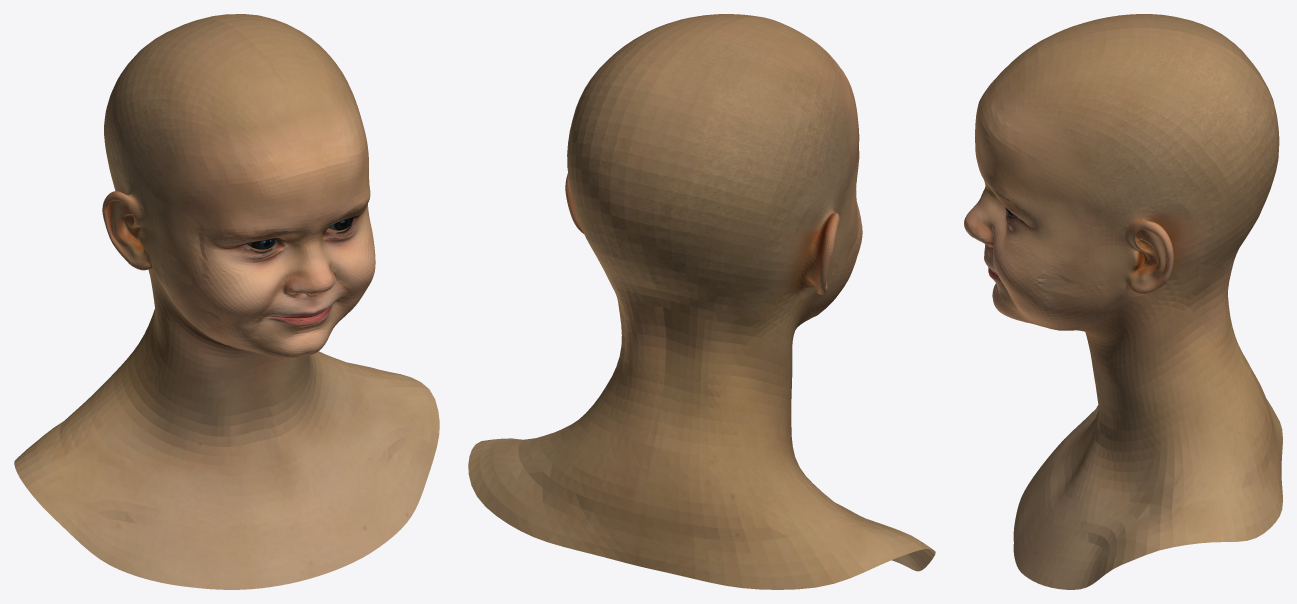
3 renders of one model, left to right at view 1: azimuth 30°, elevation 25°; view 2: azimuth 150°, elevation 25°; view 3: azimuth 270°, elevation 25°, orthographic. The views are drawn at different scales.
Visible parts, largest first — view 1: head_lod0_mesh; view 2: head_lod0_mesh; view 3: head_lod0_mesh.
Boxes of the visible parts, x1=… form: head_lod0_mesh: x1=14, y1=14, x2=439, y2=589; head_lod0_mesh: x1=468, y1=14, x2=935, y2=589; head_lod0_mesh: x1=964, y1=14, x2=1282, y2=589.
Size of the model in its own units: 29.88 by 35.77 by 20.06.
5 materials, 4 textured.
